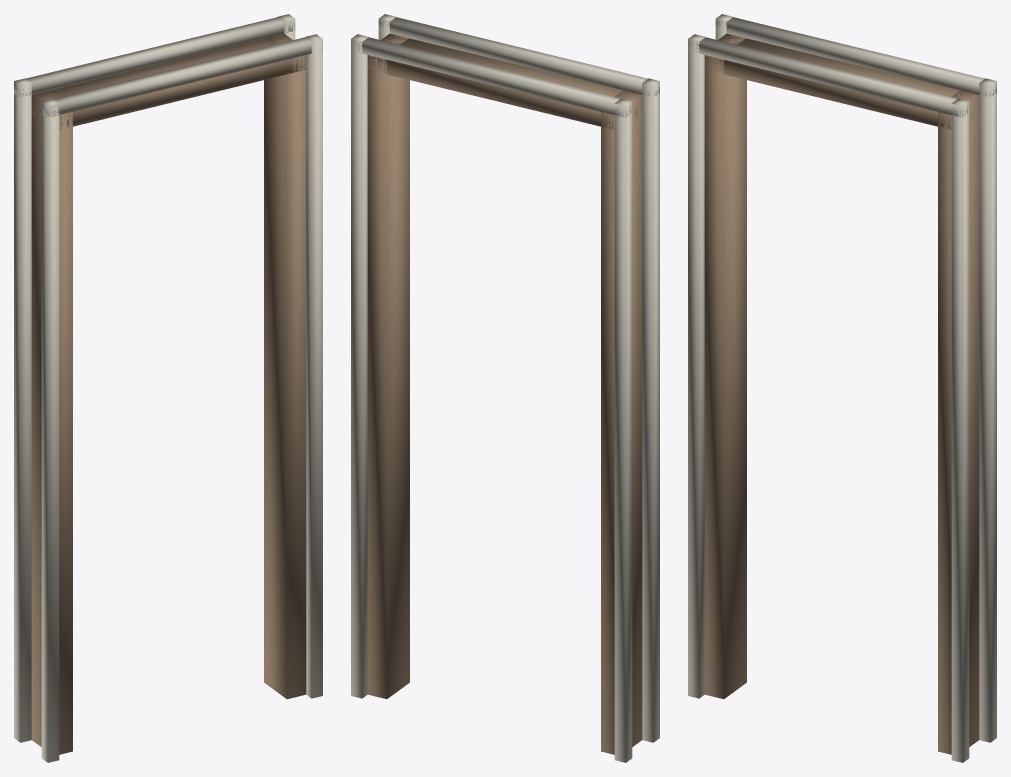
File: doorway_painted_trim_w86_h240_d16.glb
3 views of the same model, side by side, from view 1: azimuth 30°, elevation 25°; view 2: azimuth 150°, elevation 25°; view 3: azimuth 330°, elevation 25° (orthographic).
Parts seen in each view (by area): view 1: world; view 2: world; view 3: world.
Boxes of the visible parts, x1,y1,x2,y2 form: world: [14, 14, 322, 762]; world: [351, 14, 659, 762]; world: [688, 14, 996, 762].
Bounding box in the file's own units: 1.1 × 2.52 × 0.2365.
